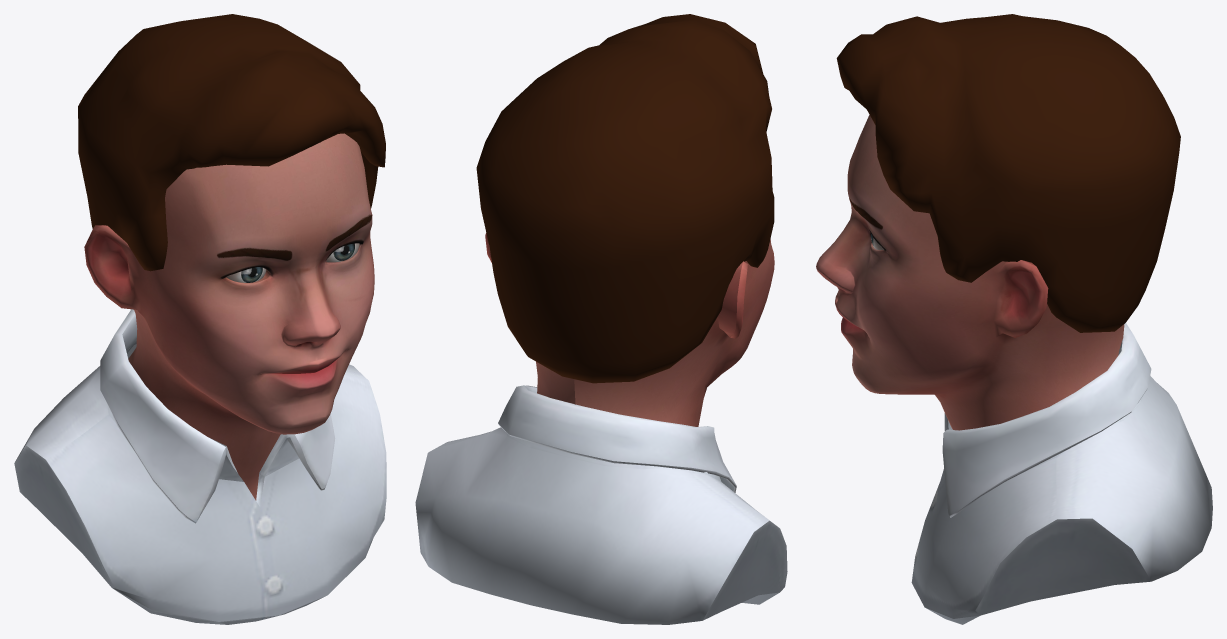
The picture shows the model from 3 angles, left to right: view 1: azimuth 30°, elevation 25°; view 2: azimuth 150°, elevation 25°; view 3: azimuth 270°, elevation 25°; orthographic projection.
Parts seen in each view (by area): view 1: Wolf3D_Shirt, Wolf3D_Head, Wolf3D_Hair; view 2: Wolf3D_Hair, Wolf3D_Shirt, Wolf3D_Head; view 3: Wolf3D_Hair, Wolf3D_Shirt, Wolf3D_Head.
Boxes of the visible parts, x1,y1,x2,y2 form: Wolf3D_Shirt: (14, 309, 386, 624); Wolf3D_Head: (84, 133, 374, 500); Wolf3D_Hair: (78, 14, 385, 271); Wolf3D_Hair: (476, 14, 774, 383); Wolf3D_Shirt: (415, 385, 787, 624); Wolf3D_Head: (485, 233, 774, 426); Wolf3D_Hair: (836, 14, 1180, 332); Wolf3D_Shirt: (911, 323, 1212, 624); Wolf3D_Head: (816, 115, 1124, 430).
Size of the model in its own units: 23.12 by 37.91 by 24.17.
Materials: 5 (3 with a texture image).
